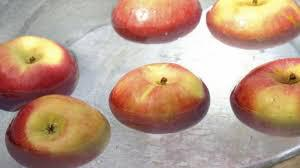apple: (10, 93, 107, 164), (111, 62, 211, 130), (229, 57, 299, 130), (3, 33, 76, 96), (208, 0, 297, 48), (110, 0, 203, 44)
